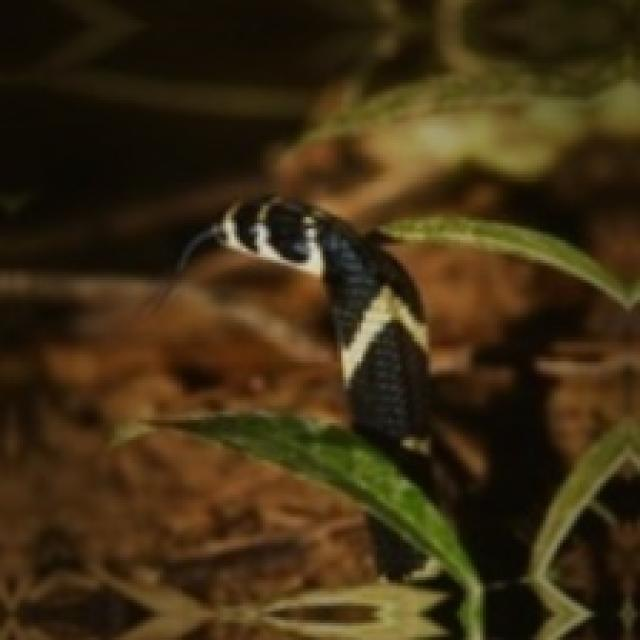king cobra: (180, 197, 426, 443), (200, 197, 429, 454), (263, 420, 454, 554)
